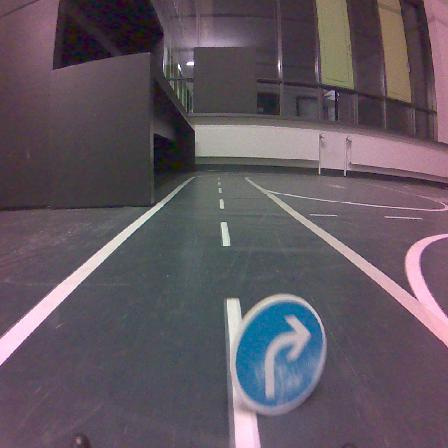RIGHT_TURN: (230, 294, 326, 414)
